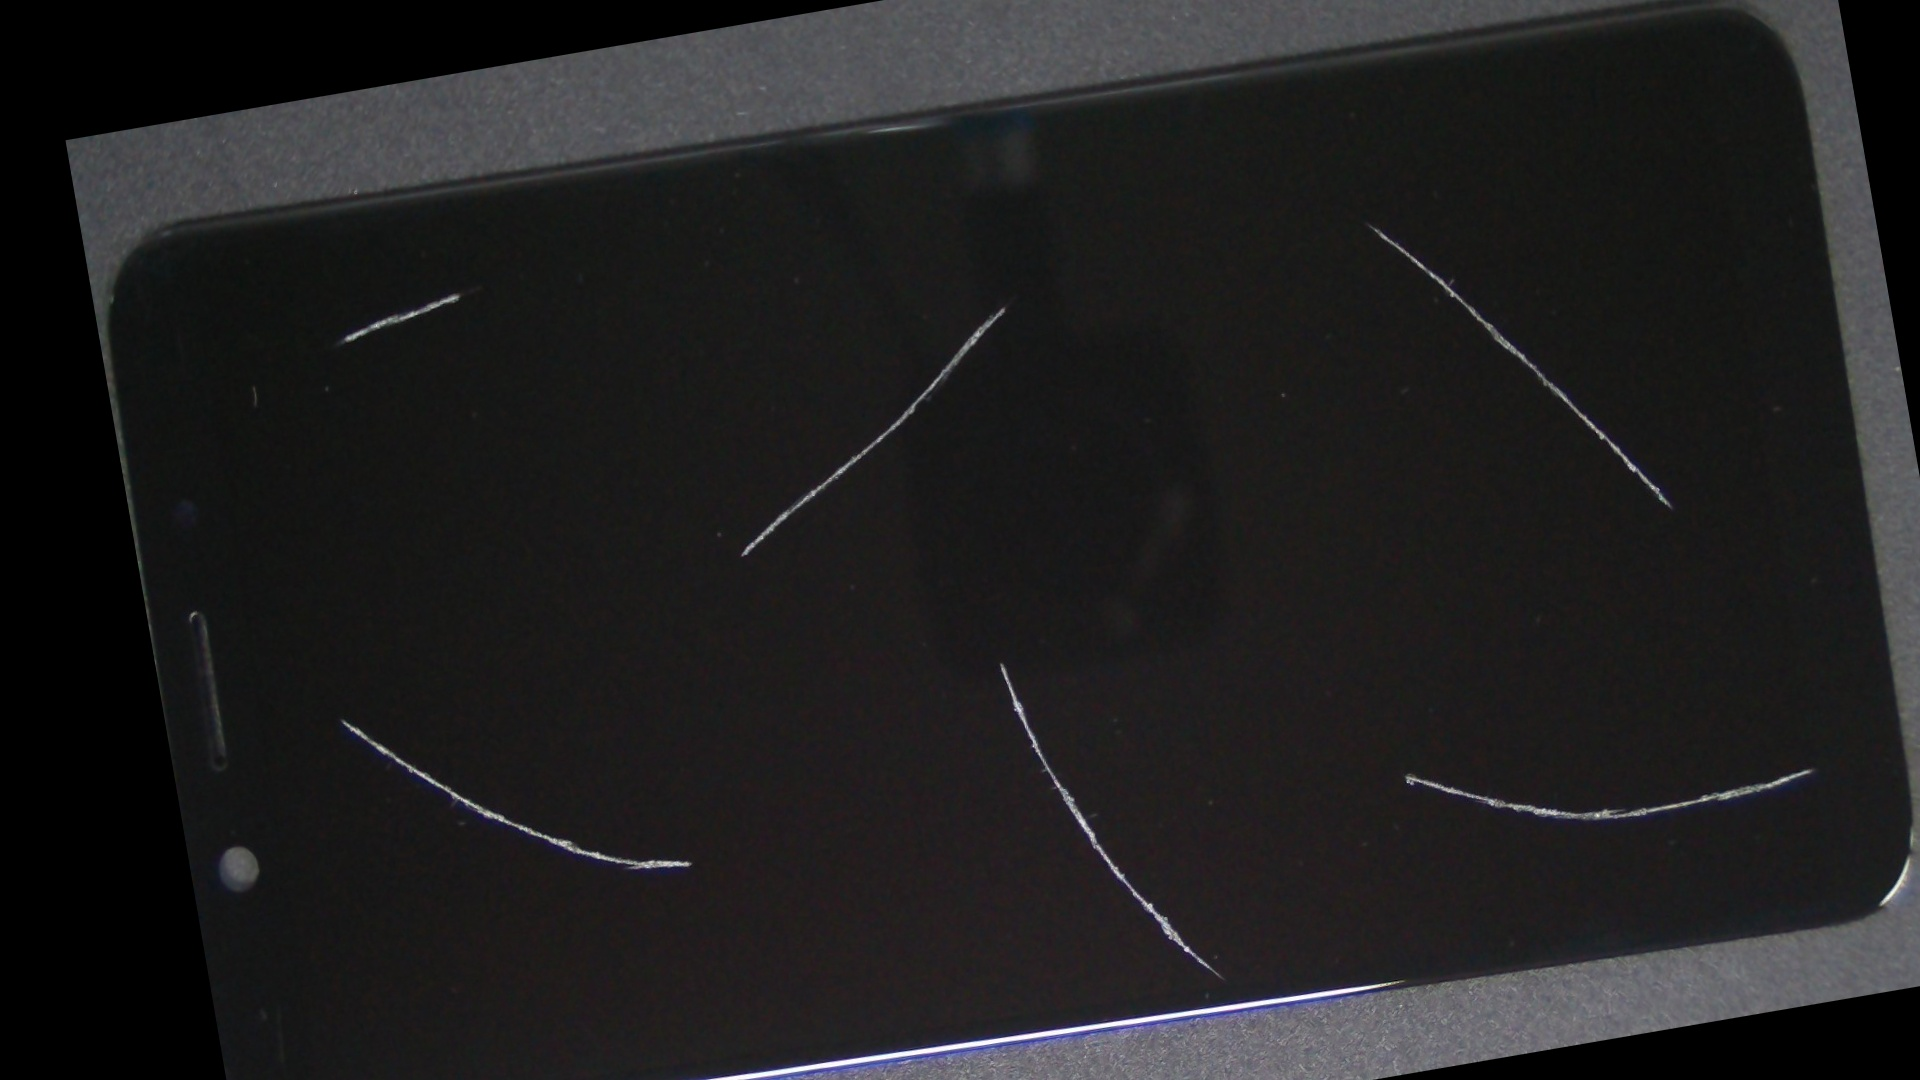oil: (737, 260, 1920, 1080), (531, 260, 1465, 1065), (707, 0, 1888, 489), (533, 74, 1466, 545), (204, 400, 480, 1038), (262, 154, 655, 429)
